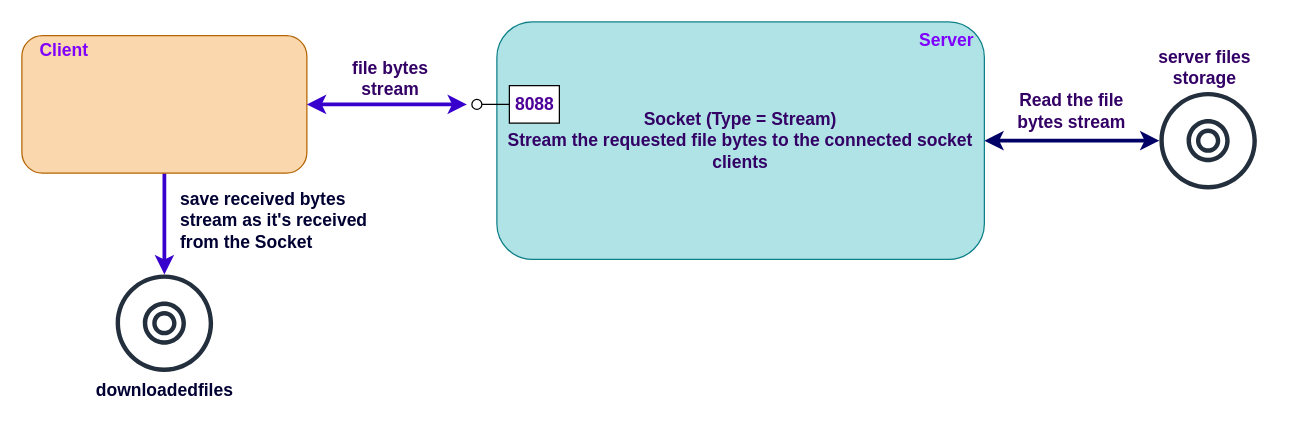
Image size: 1296x424. Some labels were removed from this diagram. Here are the shapes that lost their labels. From the top down, the box of each, then its label:
(21, 34, 307, 173): Receive bytes stream from the connected server Socket
(1159, 91, 1256, 189): samplefiles
